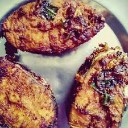seerfish: (2, 1, 105, 51), (71, 46, 126, 128), (2, 57, 58, 128)
